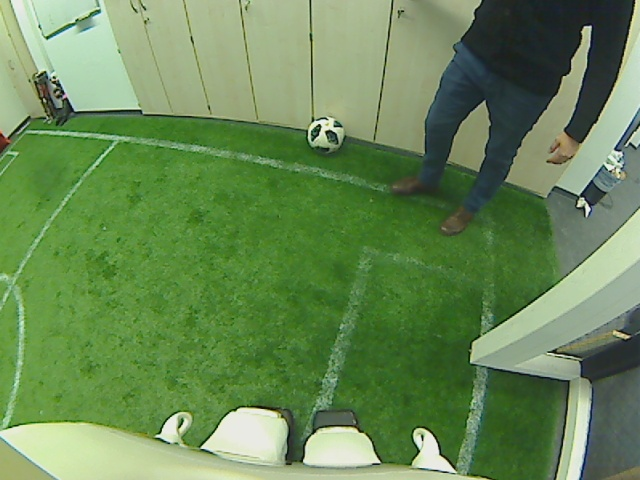ball: (307, 114, 346, 152)
